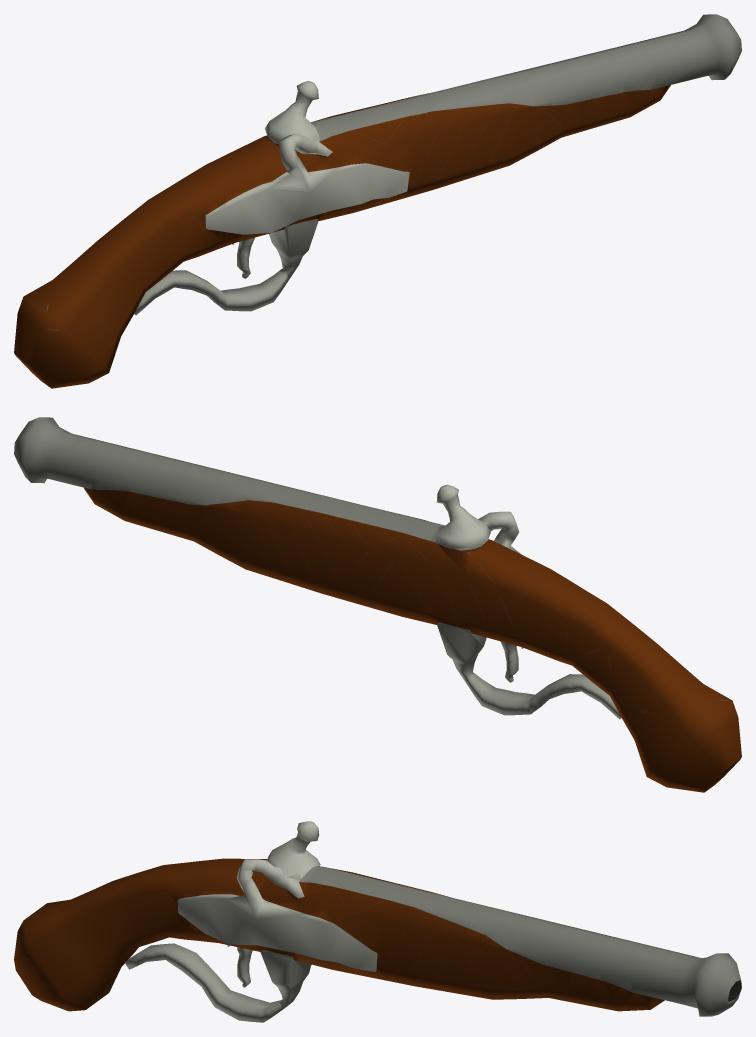
Rendered from pistol.gltf.
The picture shows the model from 3 angles, top to bottom: view 1: azimuth 30°, elevation 25°; view 2: azimuth 150°, elevation 25°; view 3: azimuth 330°, elevation 25°; orthographic projection.
Size of the model in its own units: 2.34 by 0.7459 by 0.2696.
1 material, 1 textured.
